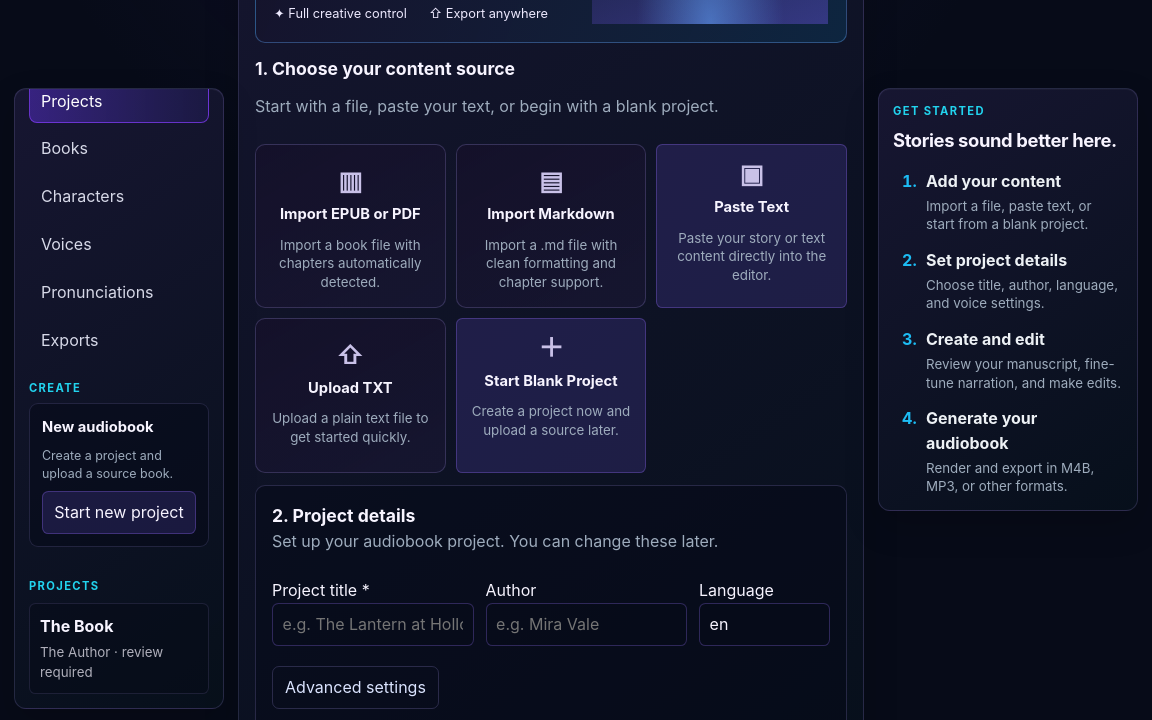
Scenario: AudiobookWorkspace › opens the new-project form from the library rail
(page scrolled)
What coordinates should you click on to do the following:
click the button "The Book The Author · review required"
I would click on:
 (119, 648)
Its box is [29,602,209,694].
(page scrolled)
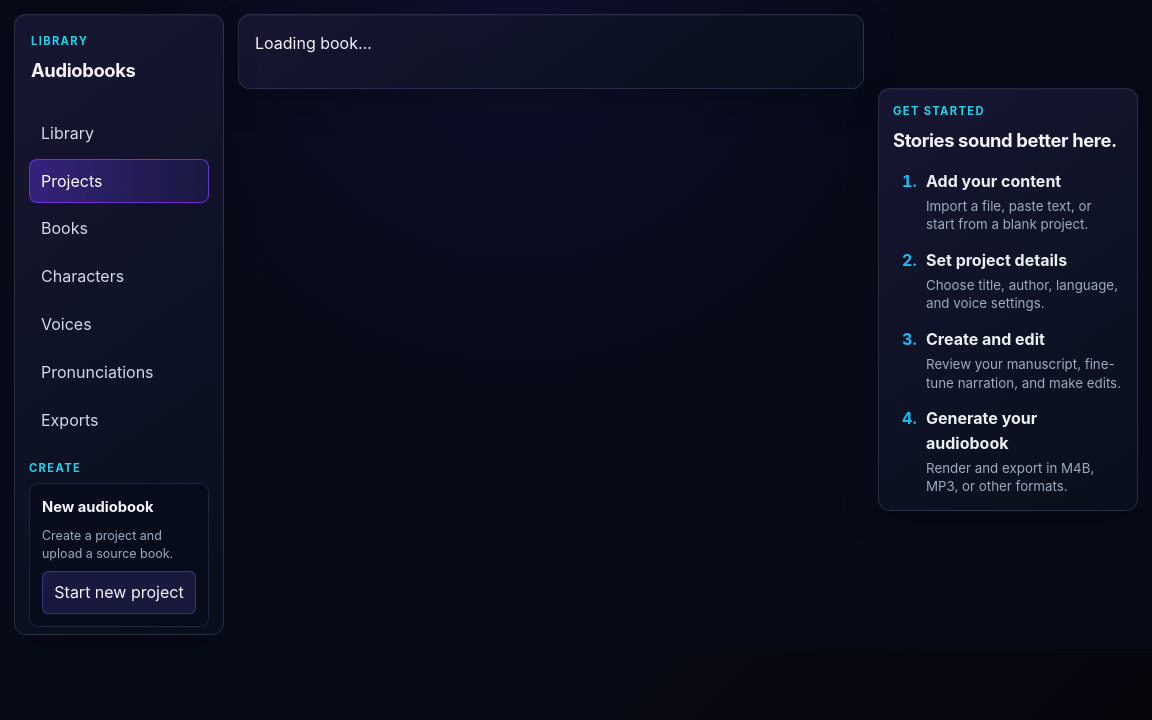
What coordinates should you click on to do the following:
click the button "Start new project"
I would click on:
 (119, 593)
Its box is [42,571,196,614].
(page scrolled)
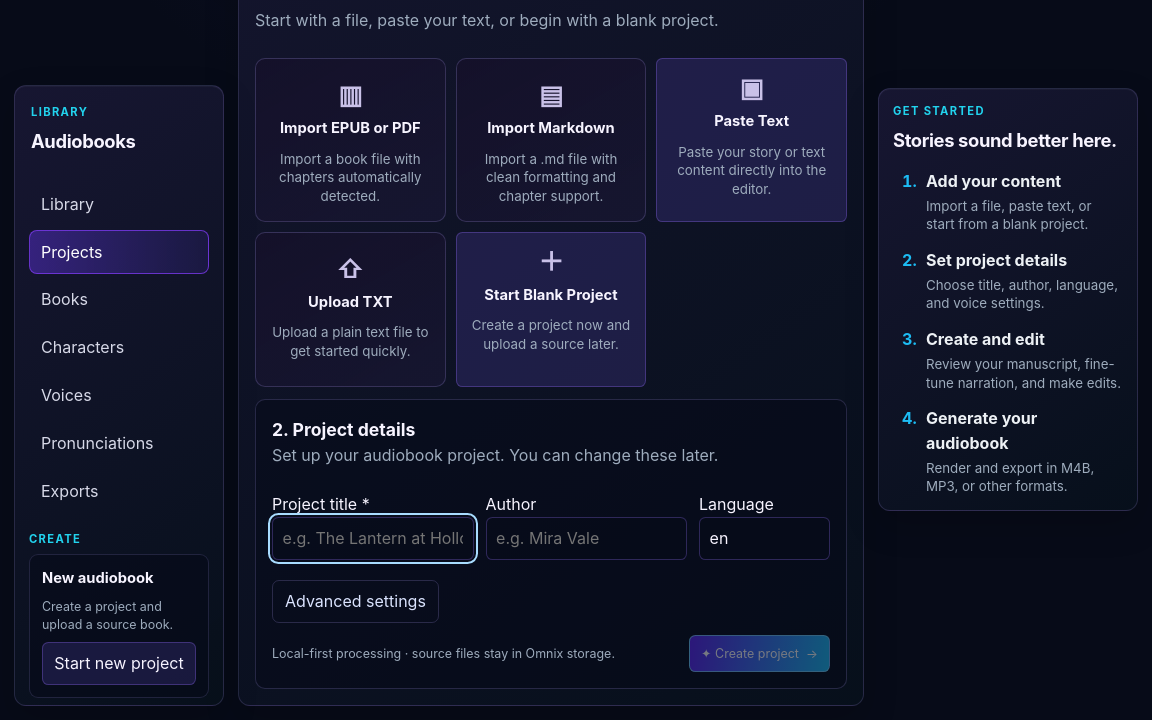
Now the field labelled "Project title *" is shown, box [272,517,474,560]
